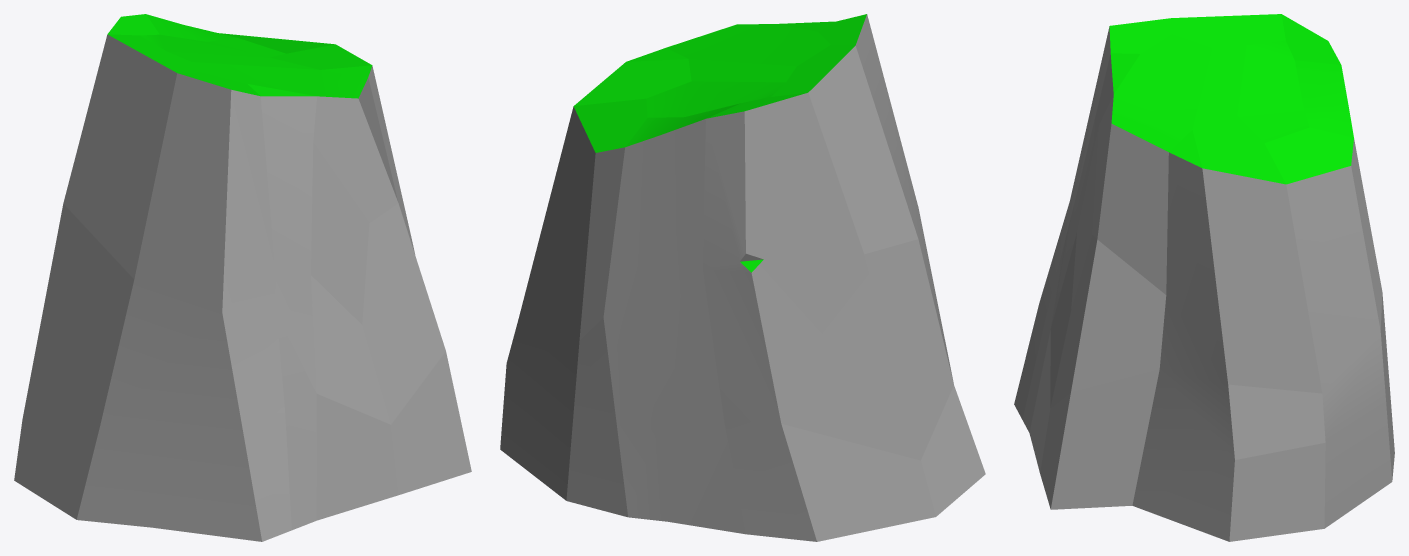
Rendered from rock_beach_medium_F.fbx.
3 views of the same model, side by side, from view 1: azimuth 30°, elevation 25°; view 2: azimuth 150°, elevation 25°; view 3: azimuth 270°, elevation 25° (orthographic). The views are drawn at different scales.
Visible parts, largest first — view 1: rock_beach_medium_F; view 2: rock_beach_medium_F; view 3: rock_beach_medium_F.
Part boxes in pixels (x1,y1,x2,y2): rock_beach_medium_F: [14, 14, 471, 541]; rock_beach_medium_F: [500, 14, 985, 541]; rock_beach_medium_F: [1014, 14, 1394, 541].
Bounding box in the file's own units: 63.49 × 59 × 52.57.
